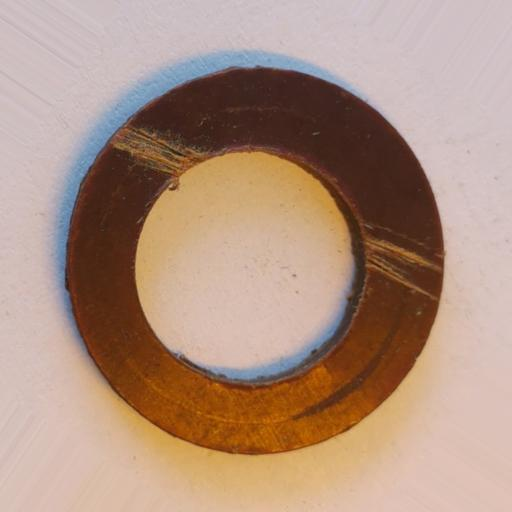defect: (359, 224, 440, 295), (106, 123, 204, 181)
